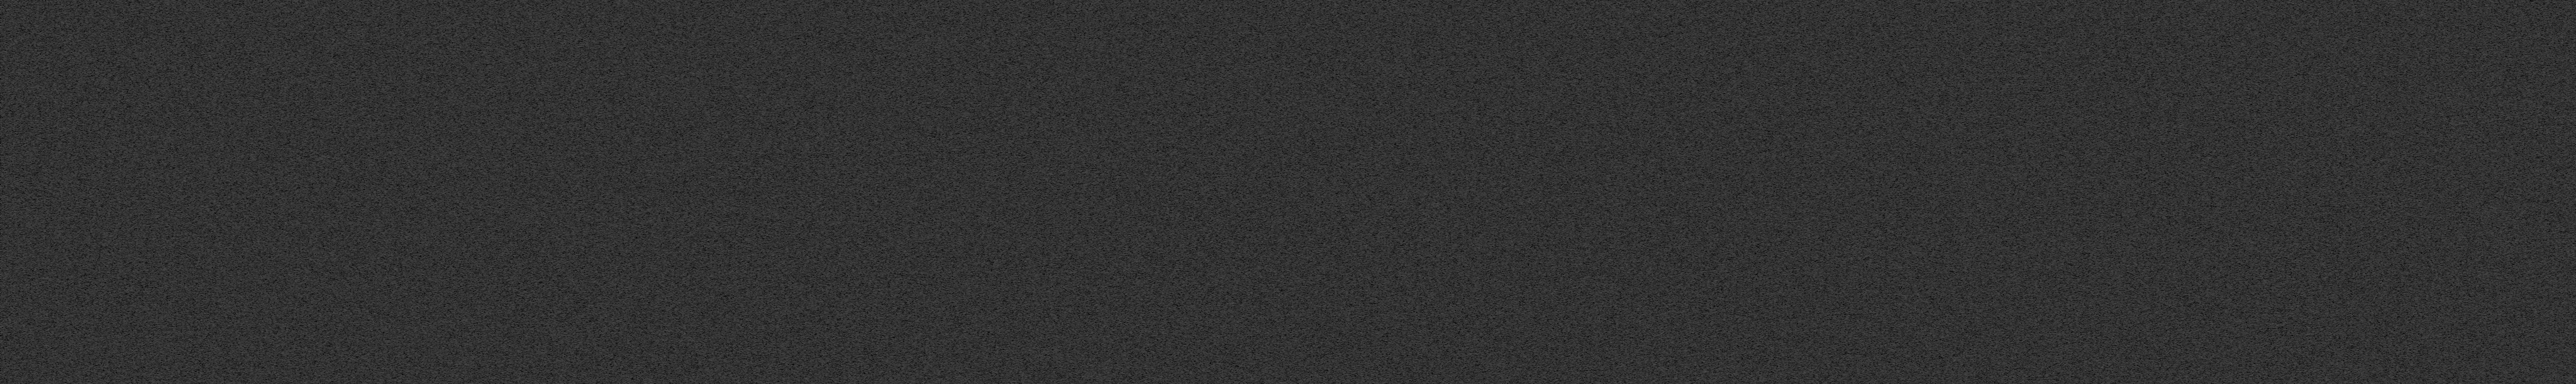wv_cw: (82, 0, 92, 384), (248, 0, 255, 384)
wv_lsb: (122, 243, 126, 361), (122, 105, 126, 179), (122, 20, 126, 85), (38, 176, 41, 248), (38, 102, 41, 174), (38, 15, 41, 79), (38, 330, 41, 384), (38, 281, 41, 330), (122, 179, 126, 200), (122, 364, 126, 384), (122, 2, 126, 20), (123, 213, 126, 233), (123, 200, 126, 213), (38, 271, 41, 281), (38, 259, 41, 269), (38, 249, 41, 259), (123, 95, 126, 105), (38, 92, 41, 100), (38, 7, 41, 15), (123, 235, 126, 243), (123, 87, 126, 94), (38, 85, 41, 90), (38, 82, 41, 85), (38, 79, 41, 82)
wv_usb: (217, 46, 220, 72), (217, 90, 220, 100), (217, 25, 220, 34), (217, 5, 218, 20), (217, 39, 220, 46), (217, 354, 218, 364), (217, 190, 220, 195), (217, 79, 220, 84), (217, 369, 218, 376), (217, 338, 218, 345), (217, 75, 220, 79), (217, 72, 220, 75), (217, 379, 218, 384), (217, 348, 218, 353), (217, 330, 218, 335), (217, 322, 218, 327), (217, 313, 218, 317), (217, 139, 218, 143), (217, 34, 218, 38), (217, 123, 218, 125), (217, 107, 218, 108)
